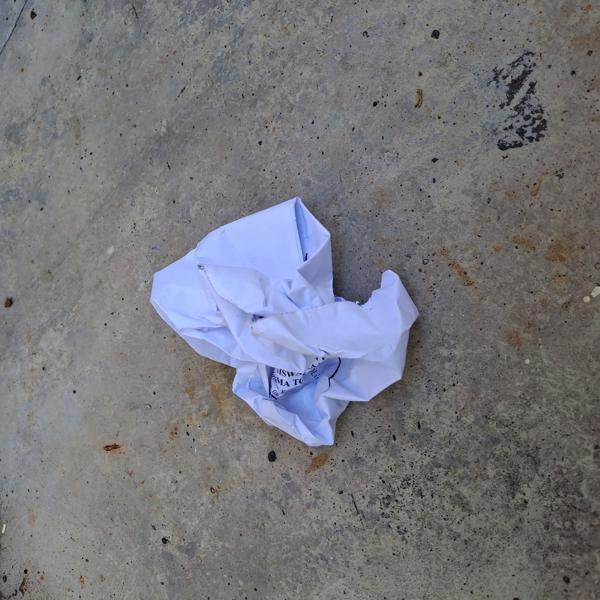Organik: (140, 185, 418, 462)
